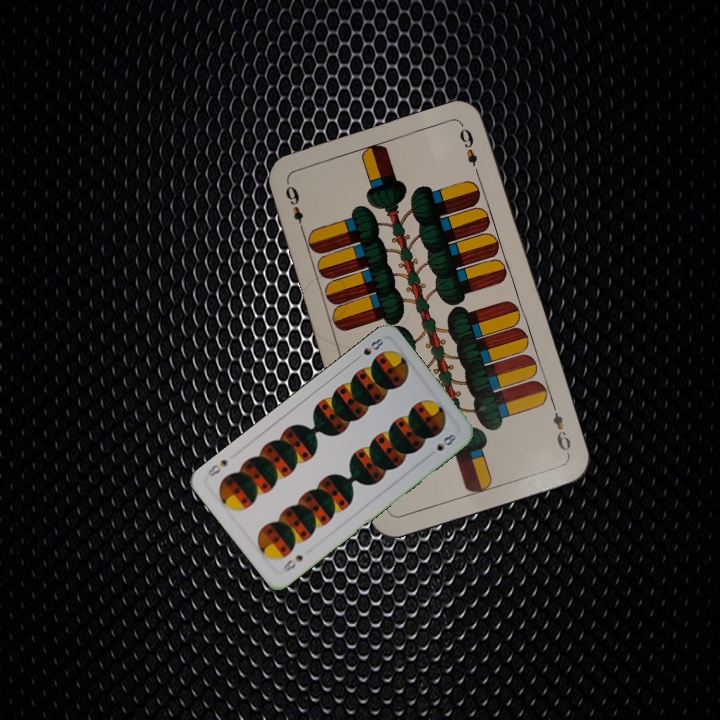E9: (548, 399, 574, 458), (281, 178, 307, 236)
S8: (350, 334, 386, 364), (279, 551, 306, 575)
